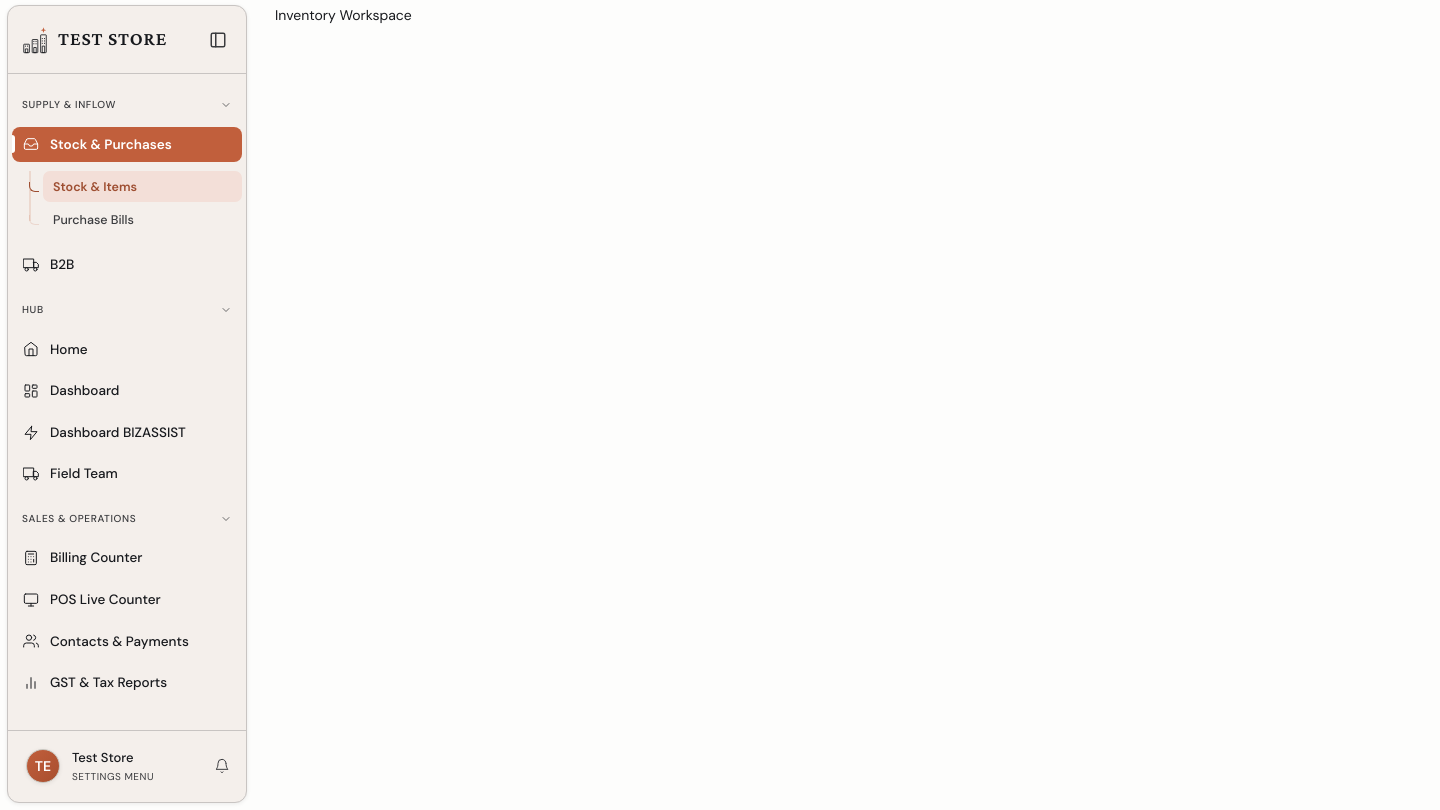
Test: Sidebar Sub-Nav Tree (Accordion) › navigates to sub-page and updates selection without separate collapse buttons
This screenshot has width=1440, height=810.
Click the link "Purchase Bills".
click(93, 220)  # box [53, 212, 134, 228]
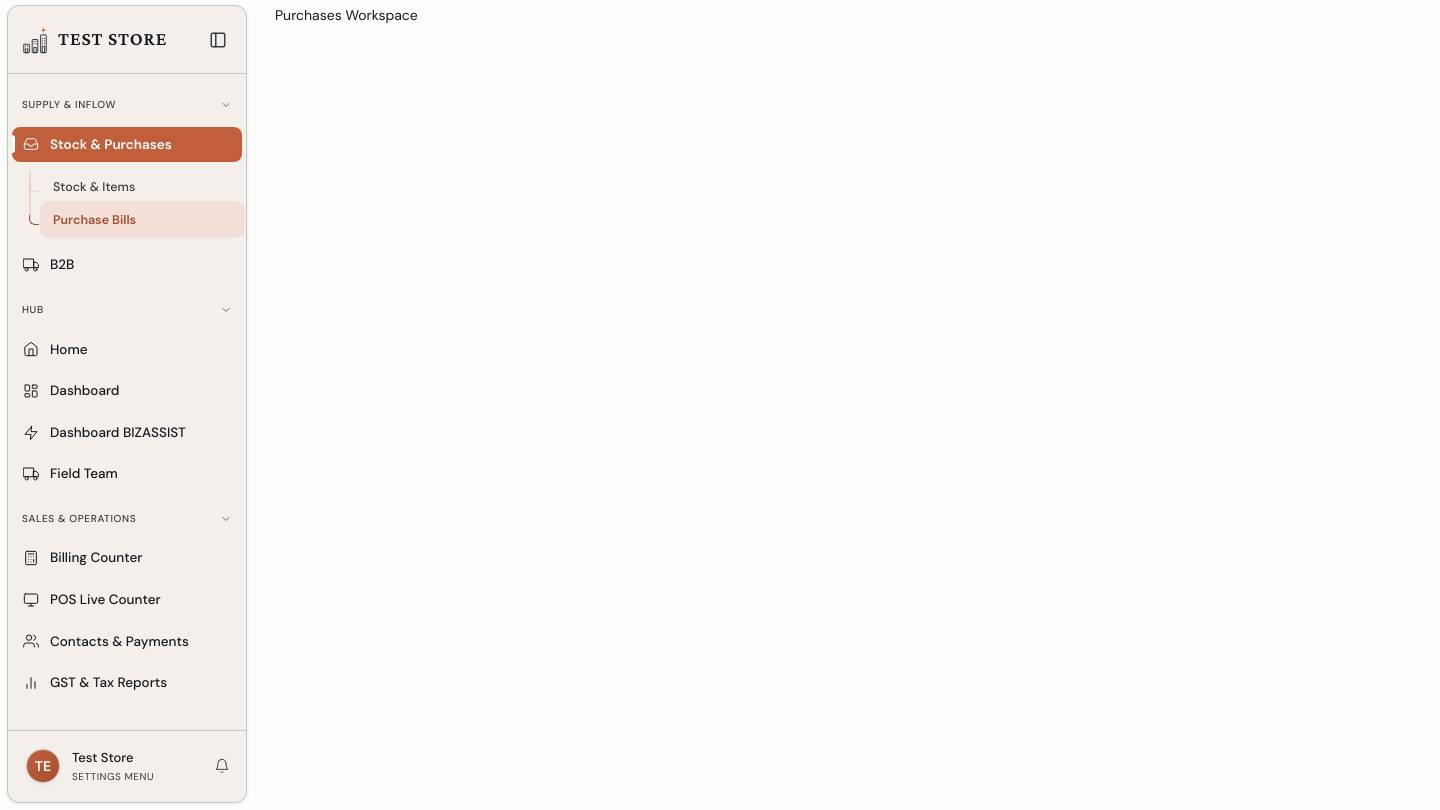
Check: the text "Purchases Workspace" is shown
